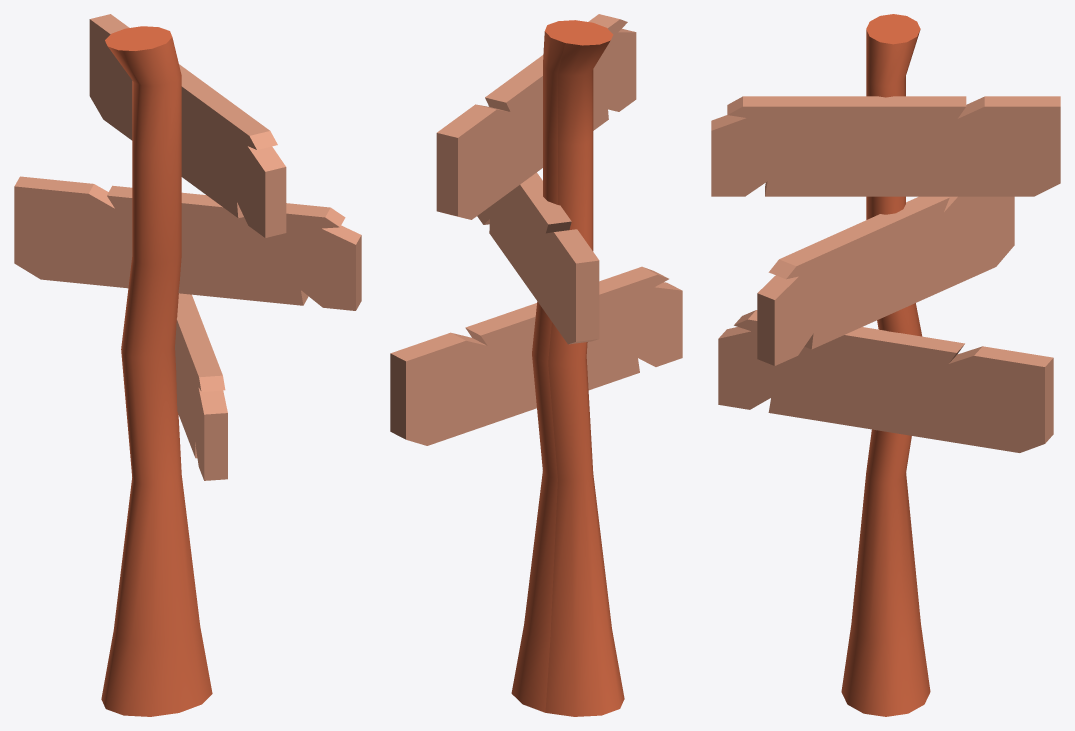
The model's file is road_sign.glb.
3 views of the same model, side by side, from view 1: azimuth 30°, elevation 25°; view 2: azimuth 150°, elevation 25°; view 3: azimuth 270°, elevation 25° (orthographic). The views are drawn at different scales.
Visible parts, largest first — view 1: road_sign; view 2: road_sign; view 3: road_sign.
Boxes of the visible parts, box(x1,y1,x2,y2) form: road_sign: box(14, 14, 361, 716); road_sign: box(390, 14, 682, 716); road_sign: box(711, 14, 1060, 716).
Size of the model in its own units: 1.47 by 3.93 by 1.9.
